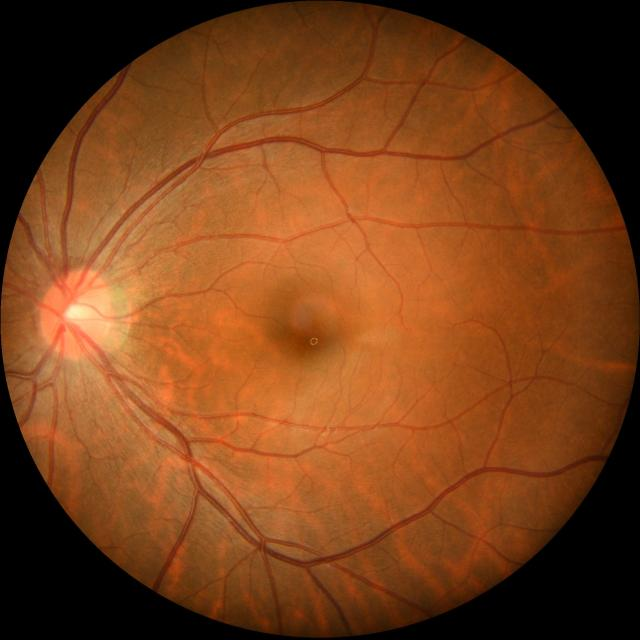OC: (64, 299, 93, 329)
OD: (40, 268, 111, 360)
